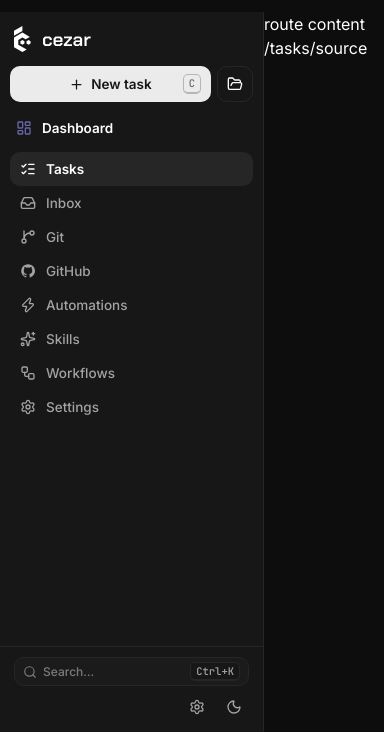
Test: AppShell › restores the generic top reset when leaving a task thread (#761)
Click the link "GitHub".
click(55, 271)  # box [20, 263, 91, 279]
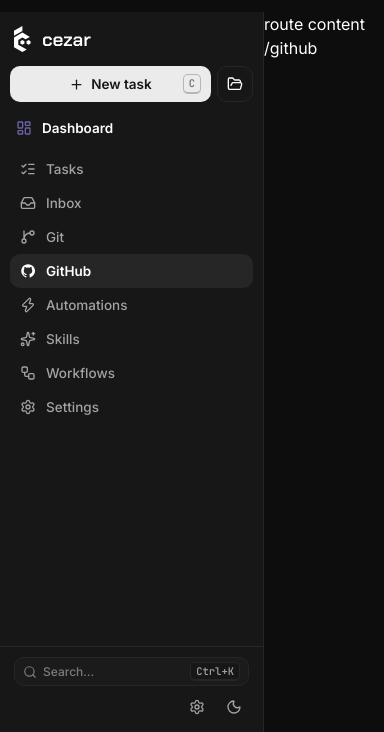
Expected: the text with test id "location" reads "/github", [264, 38, 317, 58]
